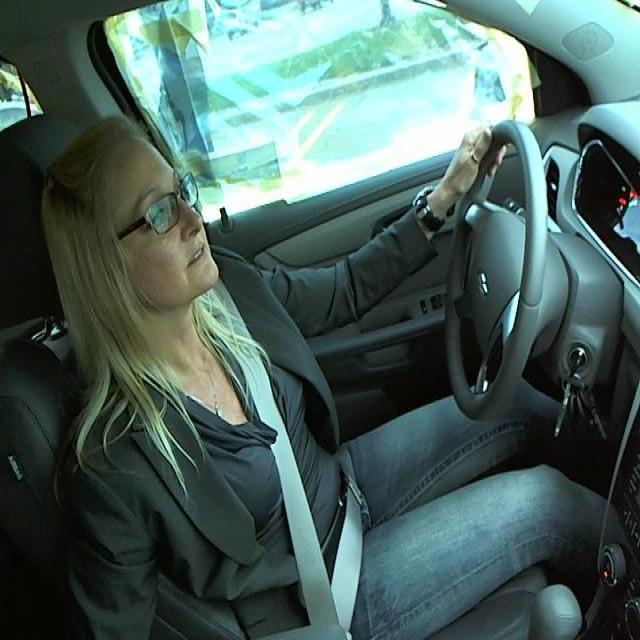seatbelt: (211, 309, 366, 627)
